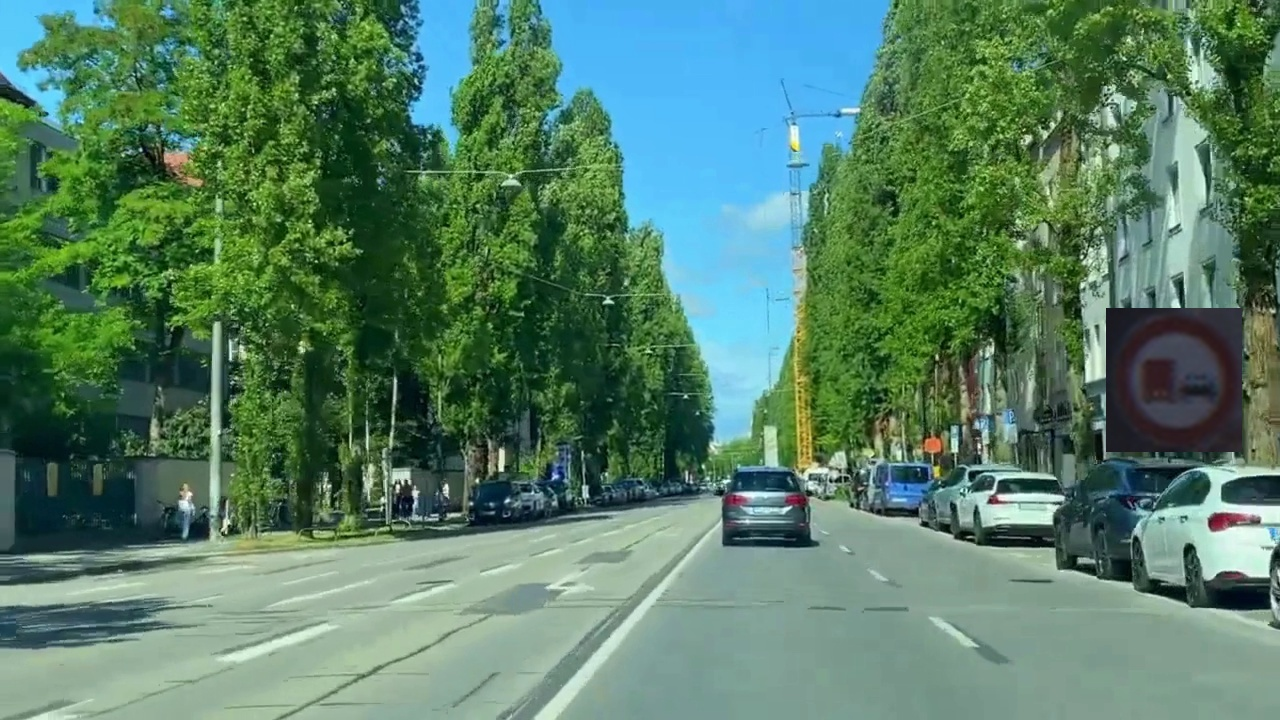No pass >3.5t: (1106, 308, 1242, 452)
